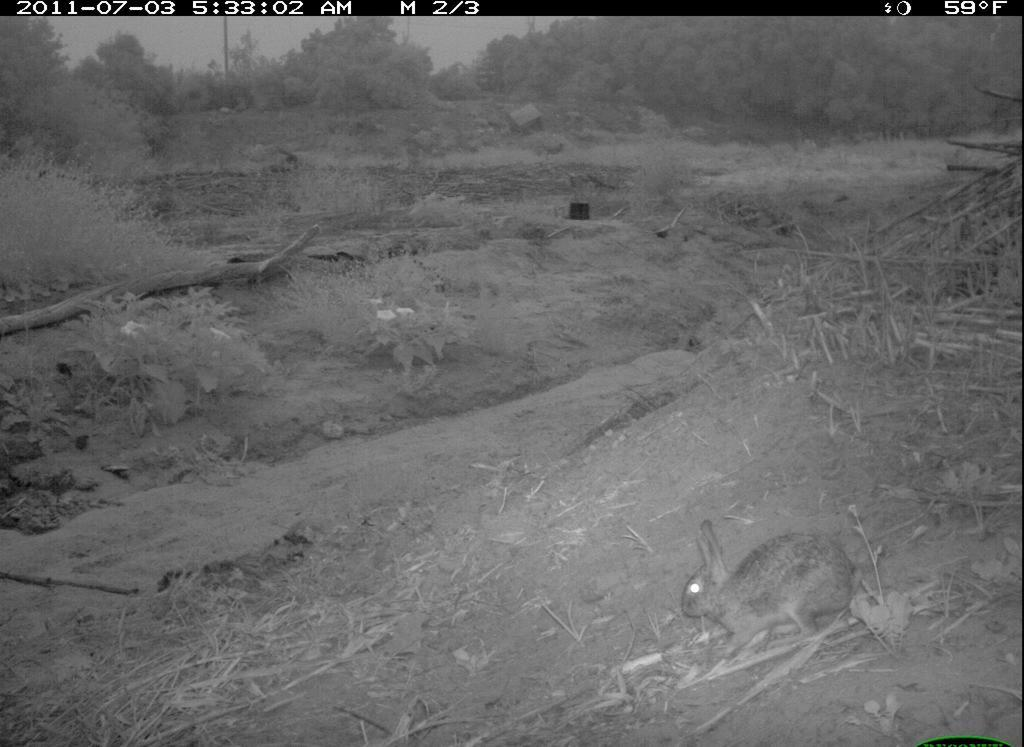rabbit: (670, 509, 870, 665)
